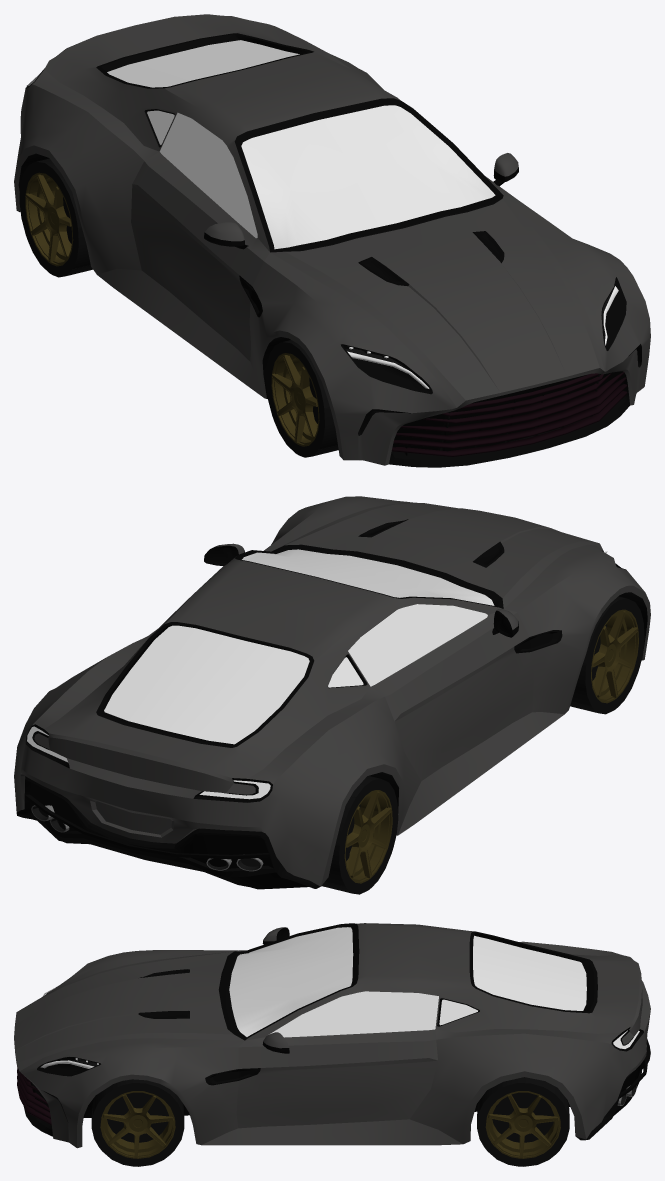
File: MARTON GT.fbx
The picture shows the model from 3 angles, top to bottom: view 1: azimuth 30°, elevation 25°; view 2: azimuth 150°, elevation 25°; view 3: azimuth 270°, elevation 25°; orthographic projection. The views are drawn at different scales.
Parts seen in each view (by area): view 1: body, windoes front n back, Plane.004, body black, front grill, Plane.002, LF RIM, RL RIM, LF TYRE, RF TYRE, headlight; view 2: body, windoes front n back, Plane.004, REAR SKIRT, body black, Plane.002, RL RIM, LF RIM, RF TYRE, LF TYRE, tail lamp; view 3: body, R DOOR BODY, windoes front n back, body black, Plane.009, RR TYRE, FR TYRE, FR RIM, RR RIM, REAR SKIRT, front grill, side vent.
Part boxes in pixels (bbox=[...]): body: bbox=[14, 14, 650, 465]; windoes front n back: bbox=[107, 40, 495, 249]; Plane.004: bbox=[131, 152, 269, 361]; body black: bbox=[18, 33, 641, 467]; front grill: bbox=[391, 371, 627, 456]; Plane.002: bbox=[159, 112, 257, 238]; LF RIM: bbox=[271, 353, 319, 446]; RL RIM: bbox=[25, 172, 73, 266]; LF TYRE: bbox=[266, 340, 338, 457]; RF TYRE: bbox=[19, 158, 92, 277]; headlight: bbox=[347, 286, 618, 388]; body: bbox=[14, 496, 650, 886]; windoes front n back: bbox=[104, 549, 494, 744]; Plane.004: bbox=[371, 609, 533, 780]; REAR SKIRT: bbox=[16, 776, 324, 889]; body black: bbox=[25, 519, 647, 888]; Plane.002: bbox=[348, 604, 487, 686]; RL RIM: bbox=[344, 790, 392, 883]; LF RIM: bbox=[591, 609, 638, 703]; RF TYRE: bbox=[322, 776, 398, 894]; LF TYRE: bbox=[570, 596, 644, 714]; tail lamp: bbox=[27, 726, 270, 799]; body: bbox=[14, 923, 650, 1148]; R DOOR BODY: bbox=[236, 1029, 437, 1128]; windoes front n back: bbox=[229, 927, 586, 1036]; body black: bbox=[23, 923, 643, 1140]; Plane.009: bbox=[269, 991, 438, 1037]; RR TYRE: bbox=[477, 1077, 569, 1166]; FR TYRE: bbox=[91, 1079, 184, 1166]; FR RIM: bbox=[100, 1091, 175, 1158]; RR RIM: bbox=[485, 1091, 560, 1158]; REAR SKIRT: bbox=[581, 1038, 650, 1140]; front grill: bbox=[17, 1066, 51, 1125]; side vent: bbox=[205, 1069, 238, 1085].
Bounding box in the file's own units: 204 × 120 × 447.
